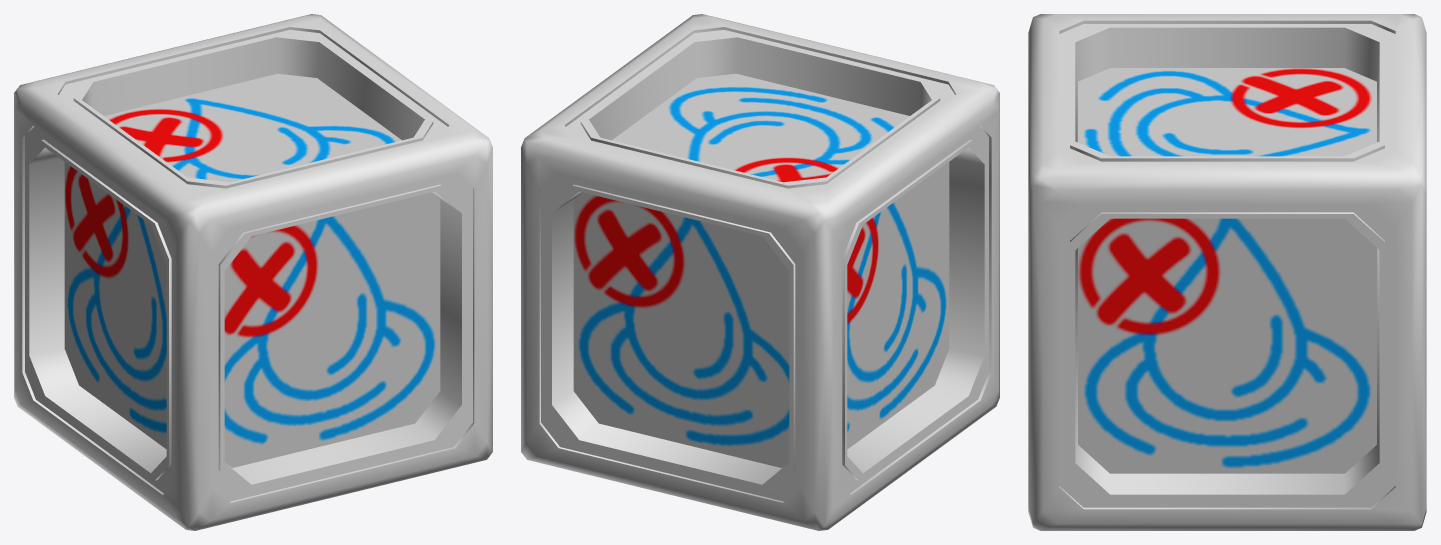
File: fant_fluid_sensor.fbx
3 renders of one model, left to right at view 1: azimuth 30°, elevation 25°; view 2: azimuth 150°, elevation 25°; view 3: azimuth 270°, elevation 25°, orthographic. The views are drawn at different scales.
Visible parts, largest first — view 1: fant_fluid_sensor; view 2: fant_fluid_sensor; view 3: fant_fluid_sensor.
Part boxes in pixels (<box>): fant_fluid_sensor: <box>14,14,492,530</box>; fant_fluid_sensor: <box>521,14,999,530</box>; fant_fluid_sensor: <box>1028,14,1426,530</box>.
Size of the model in its own units: 100 by 100 by 100.
